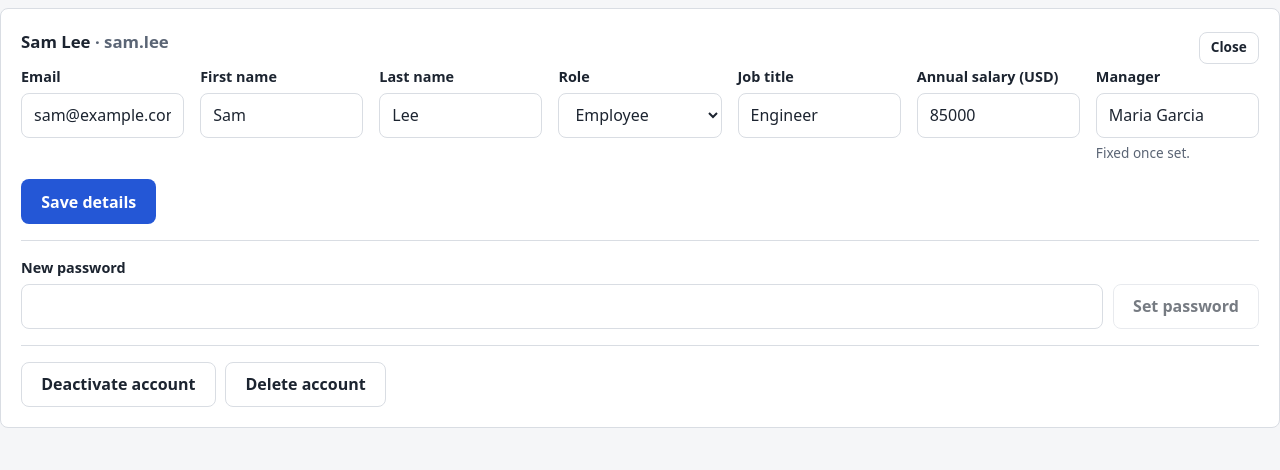
Test: AccountPanel password › shows a server password error next to the field
Type "longpassword" into the password field labelled "New password" at x=562, y=306, box [21, 284, 1103, 329]
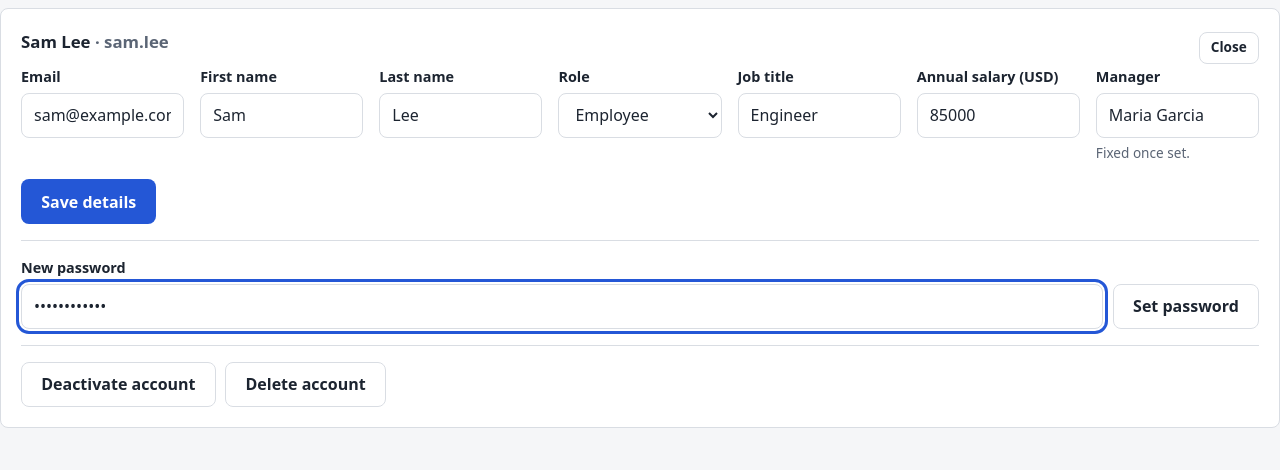
Click the button "Set password" at x=1186, y=306, box [1113, 284, 1259, 329]
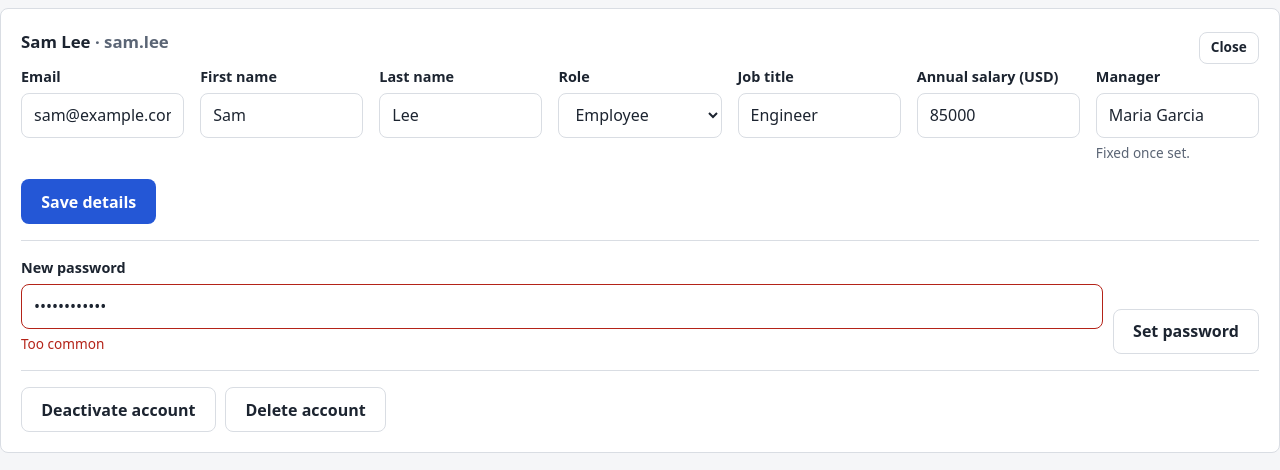
Check: the text "Too common" is shown, box [21, 334, 104, 352]
